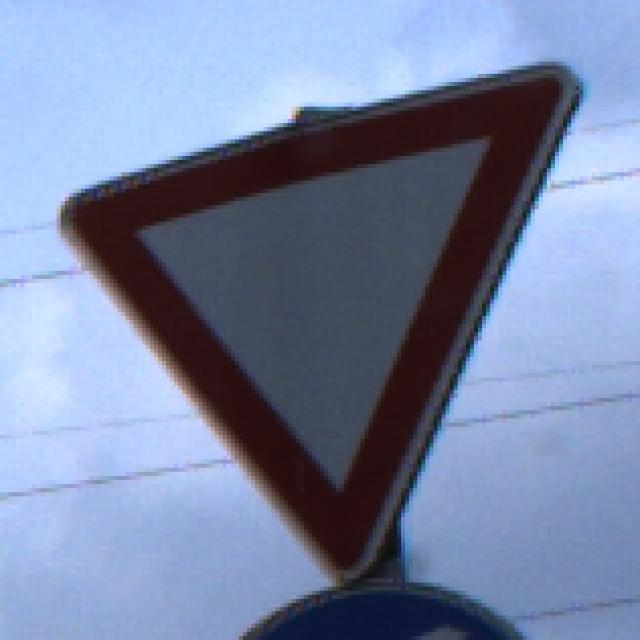give way: (58, 65, 572, 579)
